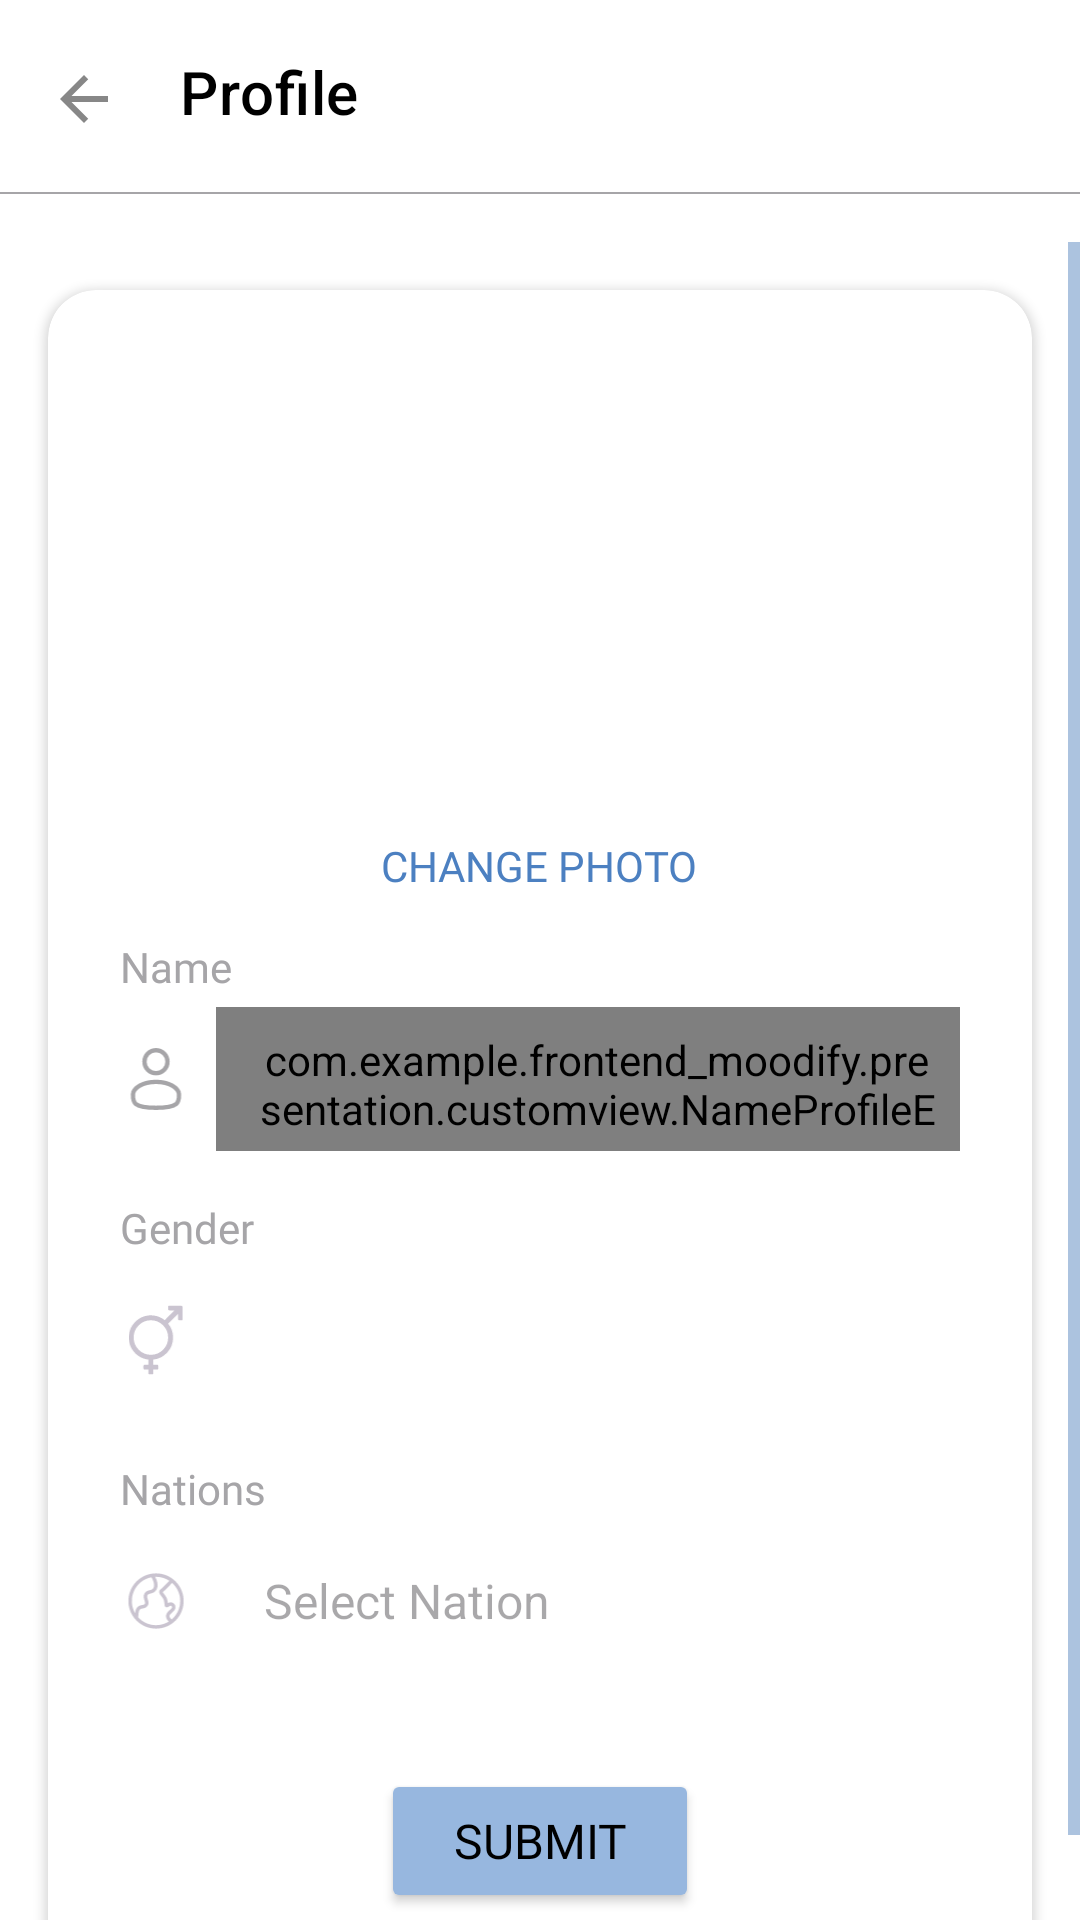

Where icons sit on this 1080*1920 app screen, as bbox=(x1, y1, x2, y2):
Icon representing user's nation: bbox=(128, 1573, 184, 1629)
